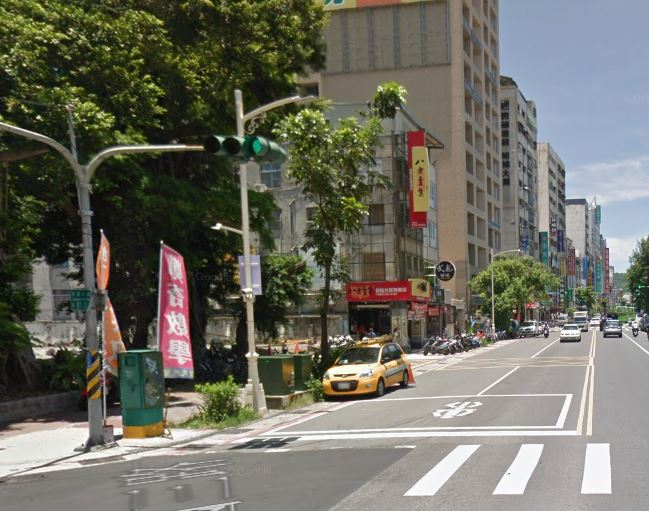Traffic_light_green: (202, 132, 287, 167)
car: (318, 335, 414, 398)
